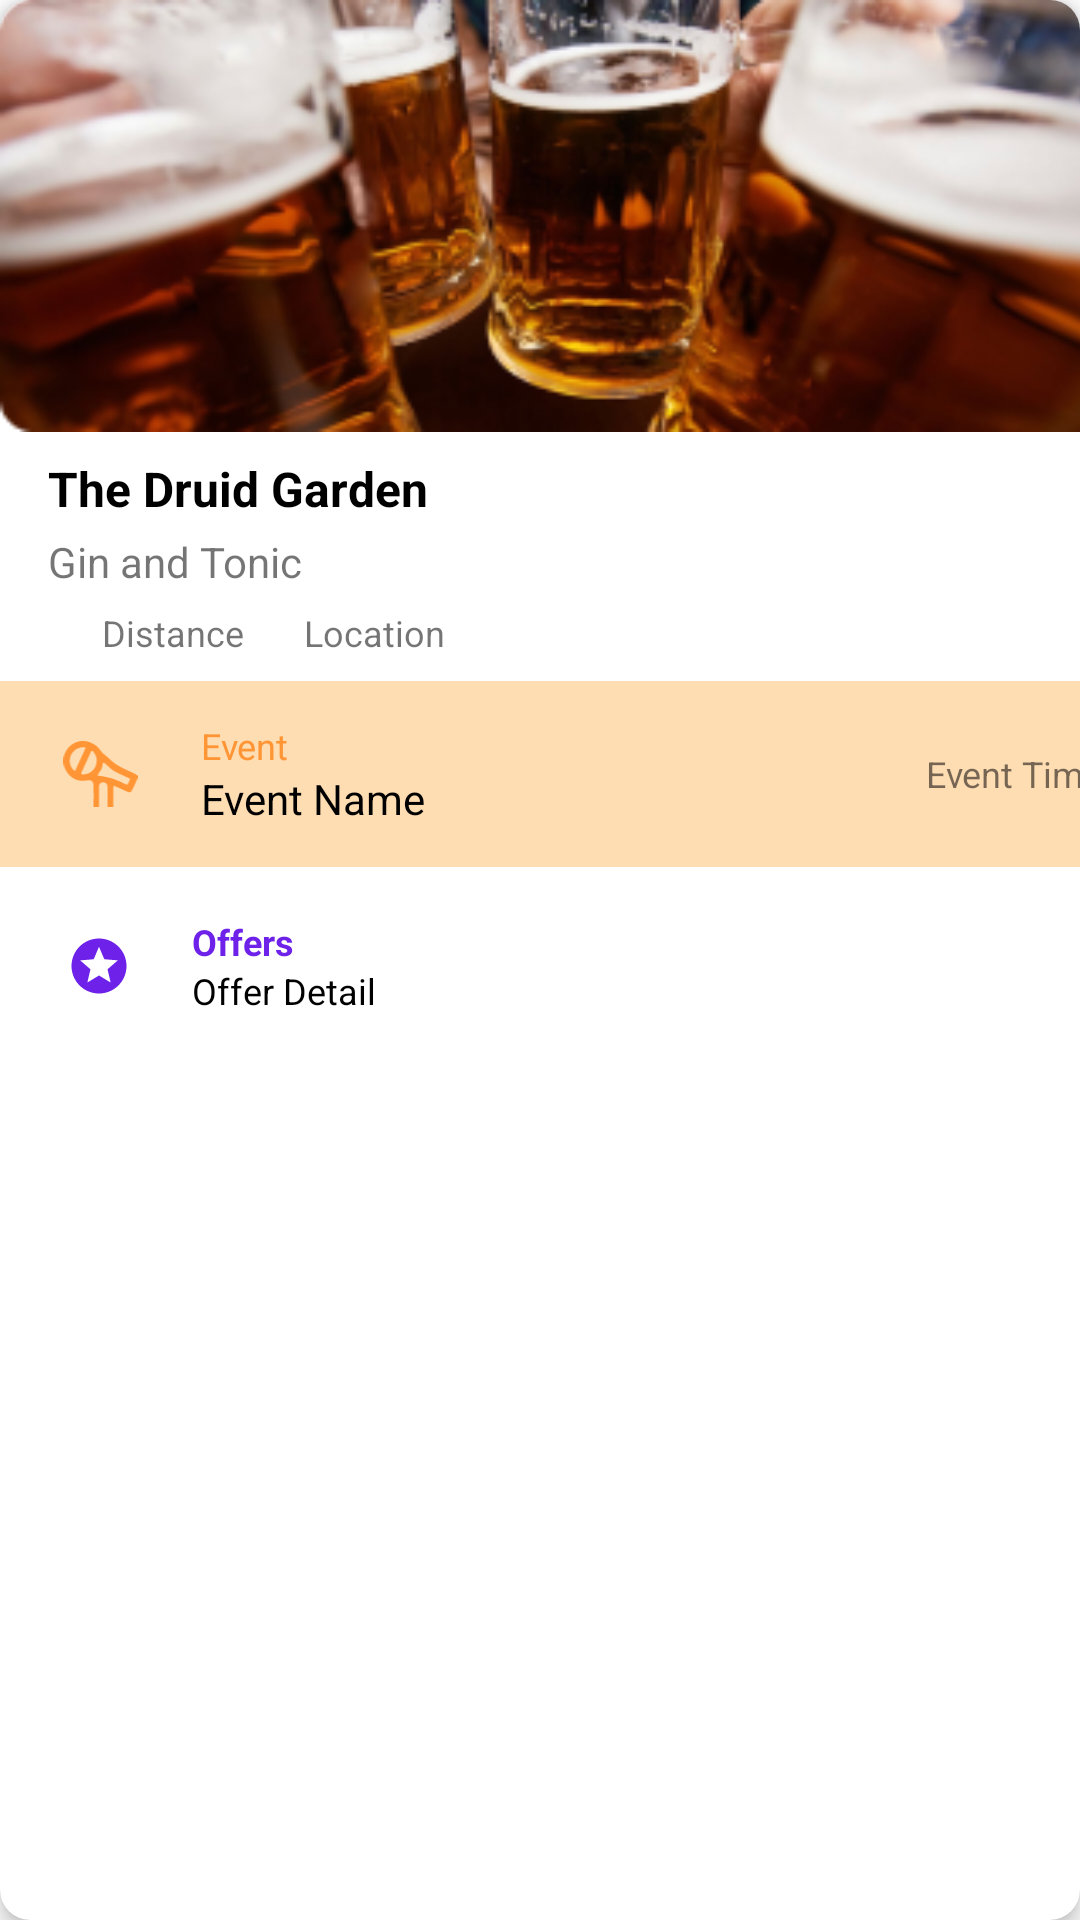

Locate icon controls on the screen. Image size 1080 × 1920, boxes as (x1, y1, x2, y2).
stars: (71, 938, 127, 994)
